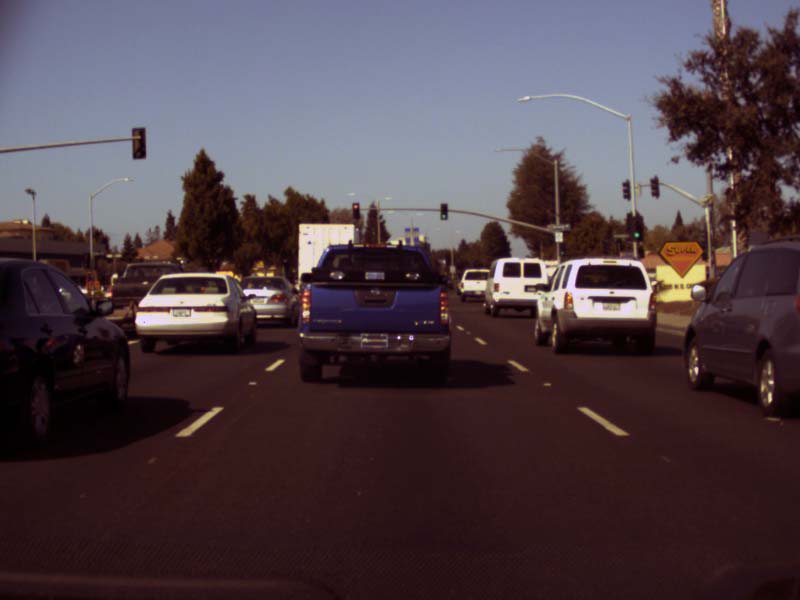Green: (633, 217, 641, 239), (439, 203, 447, 220), (559, 242, 563, 256)
Red: (352, 203, 358, 218)
